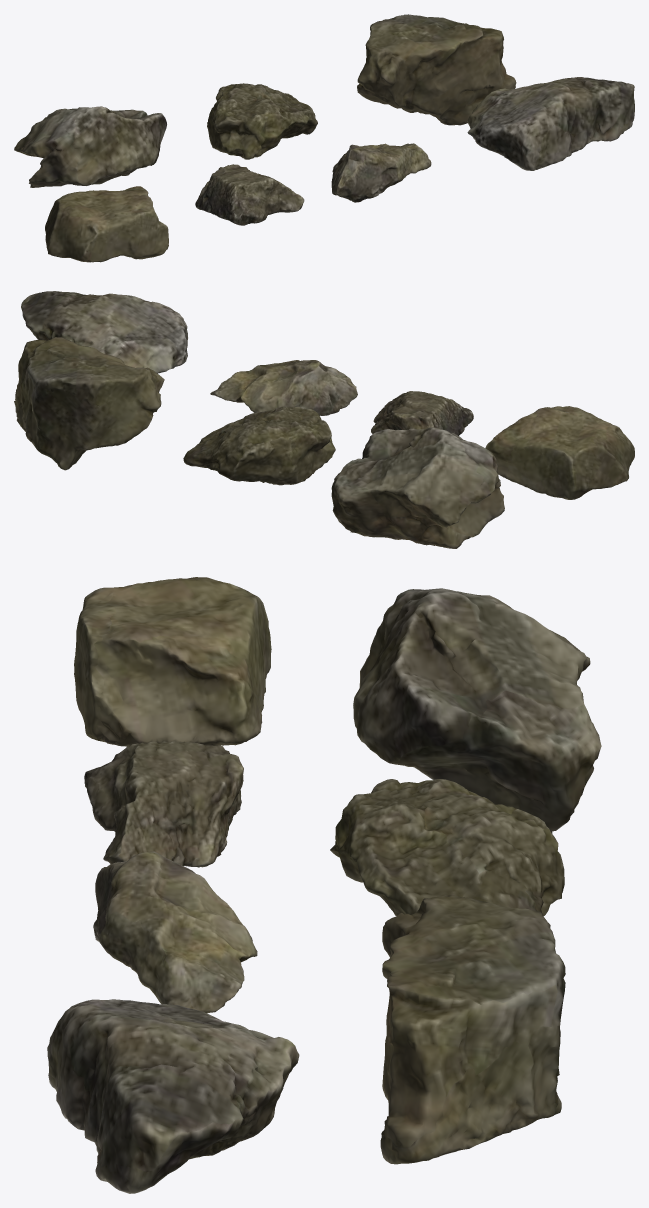
File: rock_moss_set_02.glb
3 views of the same model, one above another, from view 1: azimuth 30°, elevation 25°; view 2: azimuth 150°, elevation 25°; view 3: azimuth 270°, elevation 25° (orthographic). The views are drawn at different scales.
Visible parts, largest first — view 1: rock_moss_set_02_rock13, rock_moss_set_02_rock10, rock_moss_set_02_rock11, rock_moss_set_02_rock07, rock_moss_set_02_rock12, rock_moss_set_02_rock08, rock_moss_set_02_rock09; view 2: rock_moss_set_02_rock11, rock_moss_set_02_rock13, rock_moss_set_02_rock07, rock_moss_set_02_rock10, rock_moss_set_02_rock12, rock_moss_set_02_rock09, rock_moss_set_02_rock08; view 3: rock_moss_set_02_rock13, rock_moss_set_02_rock11, rock_moss_set_02_rock10, rock_moss_set_02_rock07, rock_moss_set_02_rock12, rock_moss_set_02_rock09, rock_moss_set_02_rock08.
Boxes of the visible parts, box(x1,y1,x2,y2) form: rock_moss_set_02_rock13: box(357, 14, 516, 125); rock_moss_set_02_rock10: box(467, 77, 634, 170); rock_moss_set_02_rock11: box(14, 106, 166, 187); rock_moss_set_02_rock07: box(45, 186, 168, 262); rock_moss_set_02_rock12: box(207, 83, 317, 159); rock_moss_set_02_rock08: box(195, 164, 304, 225); rock_moss_set_02_rock09: box(331, 143, 431, 202); rock_moss_set_02_rock11: box(331, 427, 504, 548); rock_moss_set_02_rock13: box(14, 337, 164, 470); rock_moss_set_02_rock07: box(485, 406, 634, 499); rock_moss_set_02_rock10: box(21, 291, 187, 373); rock_moss_set_02_rock12: box(183, 406, 335, 485); rock_moss_set_02_rock09: box(210, 360, 357, 415); rock_moss_set_02_rock08: box(371, 391, 473, 435); rock_moss_set_02_rock13: box(380, 895, 565, 1164); rock_moss_set_02_rock11: box(353, 588, 601, 833); rock_moss_set_02_rock10: box(47, 999, 299, 1193); rock_moss_set_02_rock07: box(74, 577, 271, 746); rock_moss_set_02_rock12: box(330, 779, 564, 927); rock_moss_set_02_rock09: box(93, 851, 257, 1013); rock_moss_set_02_rock08: box(84, 741, 243, 867).
Size of the model in its own units: 8.28 by 1.37 by 3.41.
Materials: 1 (1 with a texture image).
